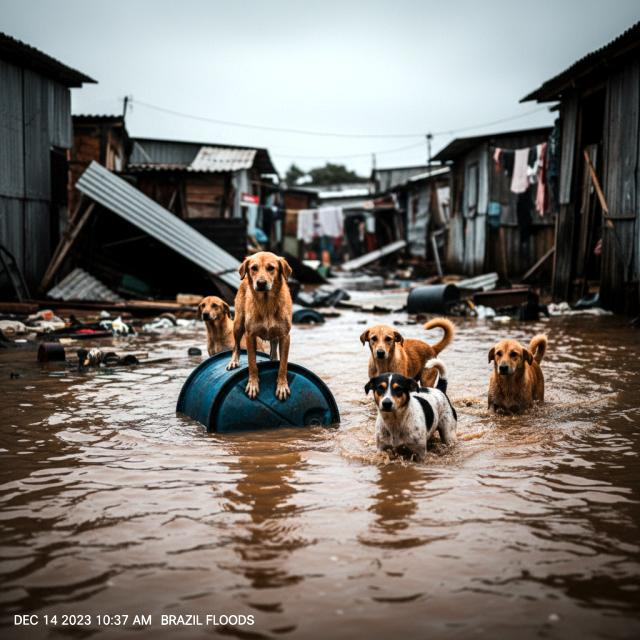dog: (358, 354, 465, 469), (227, 253, 304, 408), (357, 314, 462, 404), (484, 330, 554, 420), (193, 298, 267, 364)
